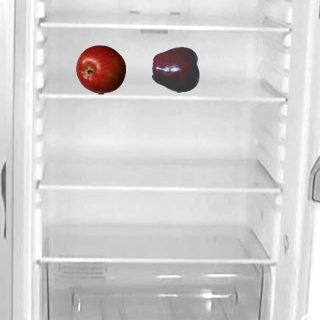Apple Braeburn: (75, 44, 125, 94)
Apple Red Delicious: (151, 44, 201, 94)
